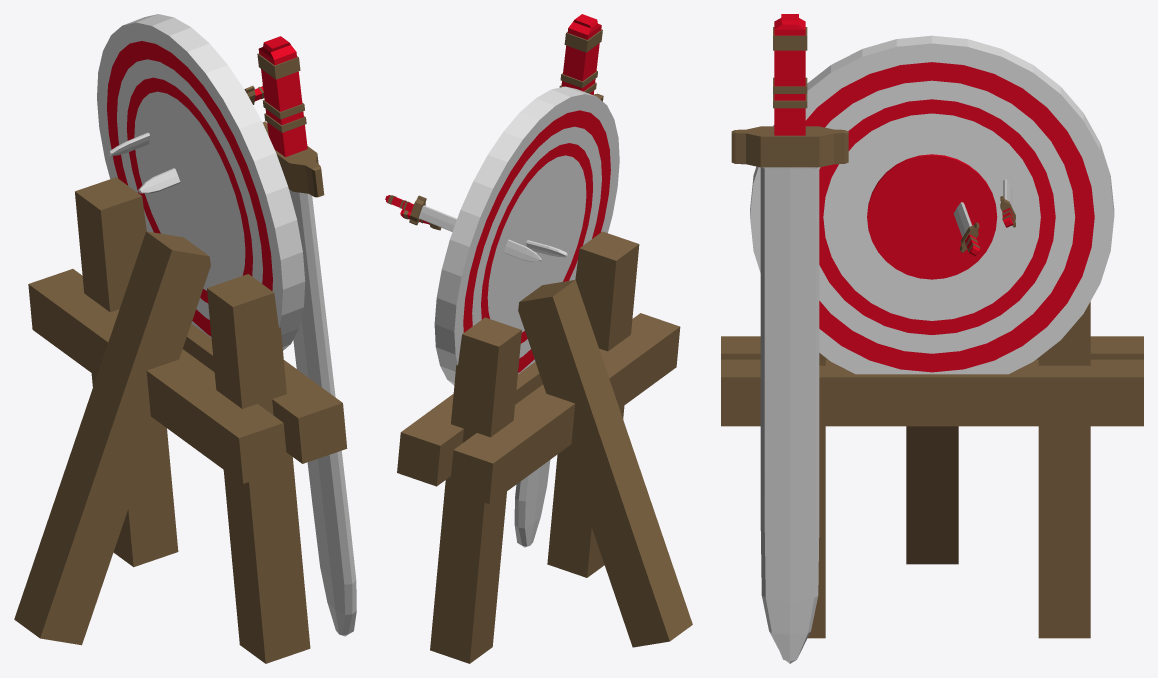
File: Alvo.fbx
3 views of the same model, side by side, from view 1: azimuth 30°, elevation 25°; view 2: azimuth 150°, elevation 25°; view 3: azimuth 270°, elevation 25° (orthographic). The views are drawn at different scales.
Parts seen in each view (by area): view 1: Cube.003, Cylinder.001, Cube.004, Cylinder.003, Cube.001; view 2: Cube.003, Cylinder.001, Cylinder.003, Cube.004, Cube.001; view 3: Cylinder.001, Cube.003, Cube.004, Cylinder.003, Cube.001.
Part boxes in pixels (x1,y1,x2,y2): Cube.003: (14,177,347,663); Cylinder.001: (97,14,305,350); Cube.004: (257,36,356,636); Cylinder.003: (107,41,272,336); Cube.001: (109,85,267,193); Cube.003: (397,231,692,663); Cylinder.001: (434,86,619,385); Cylinder.003: (463,110,610,372); Cube.004: (514,14,603,547); Cube.001: (385,195,567,261); Cylinder.001: (750,35,1114,374); Cube.003: (721,301,1143,638); Cube.004: (731,14,848,663); Cylinder.003: (805,62,1094,372); Cube.001: (953,179,1015,255).
Bounding box in the file's own units: 105 × 209 × 130.
